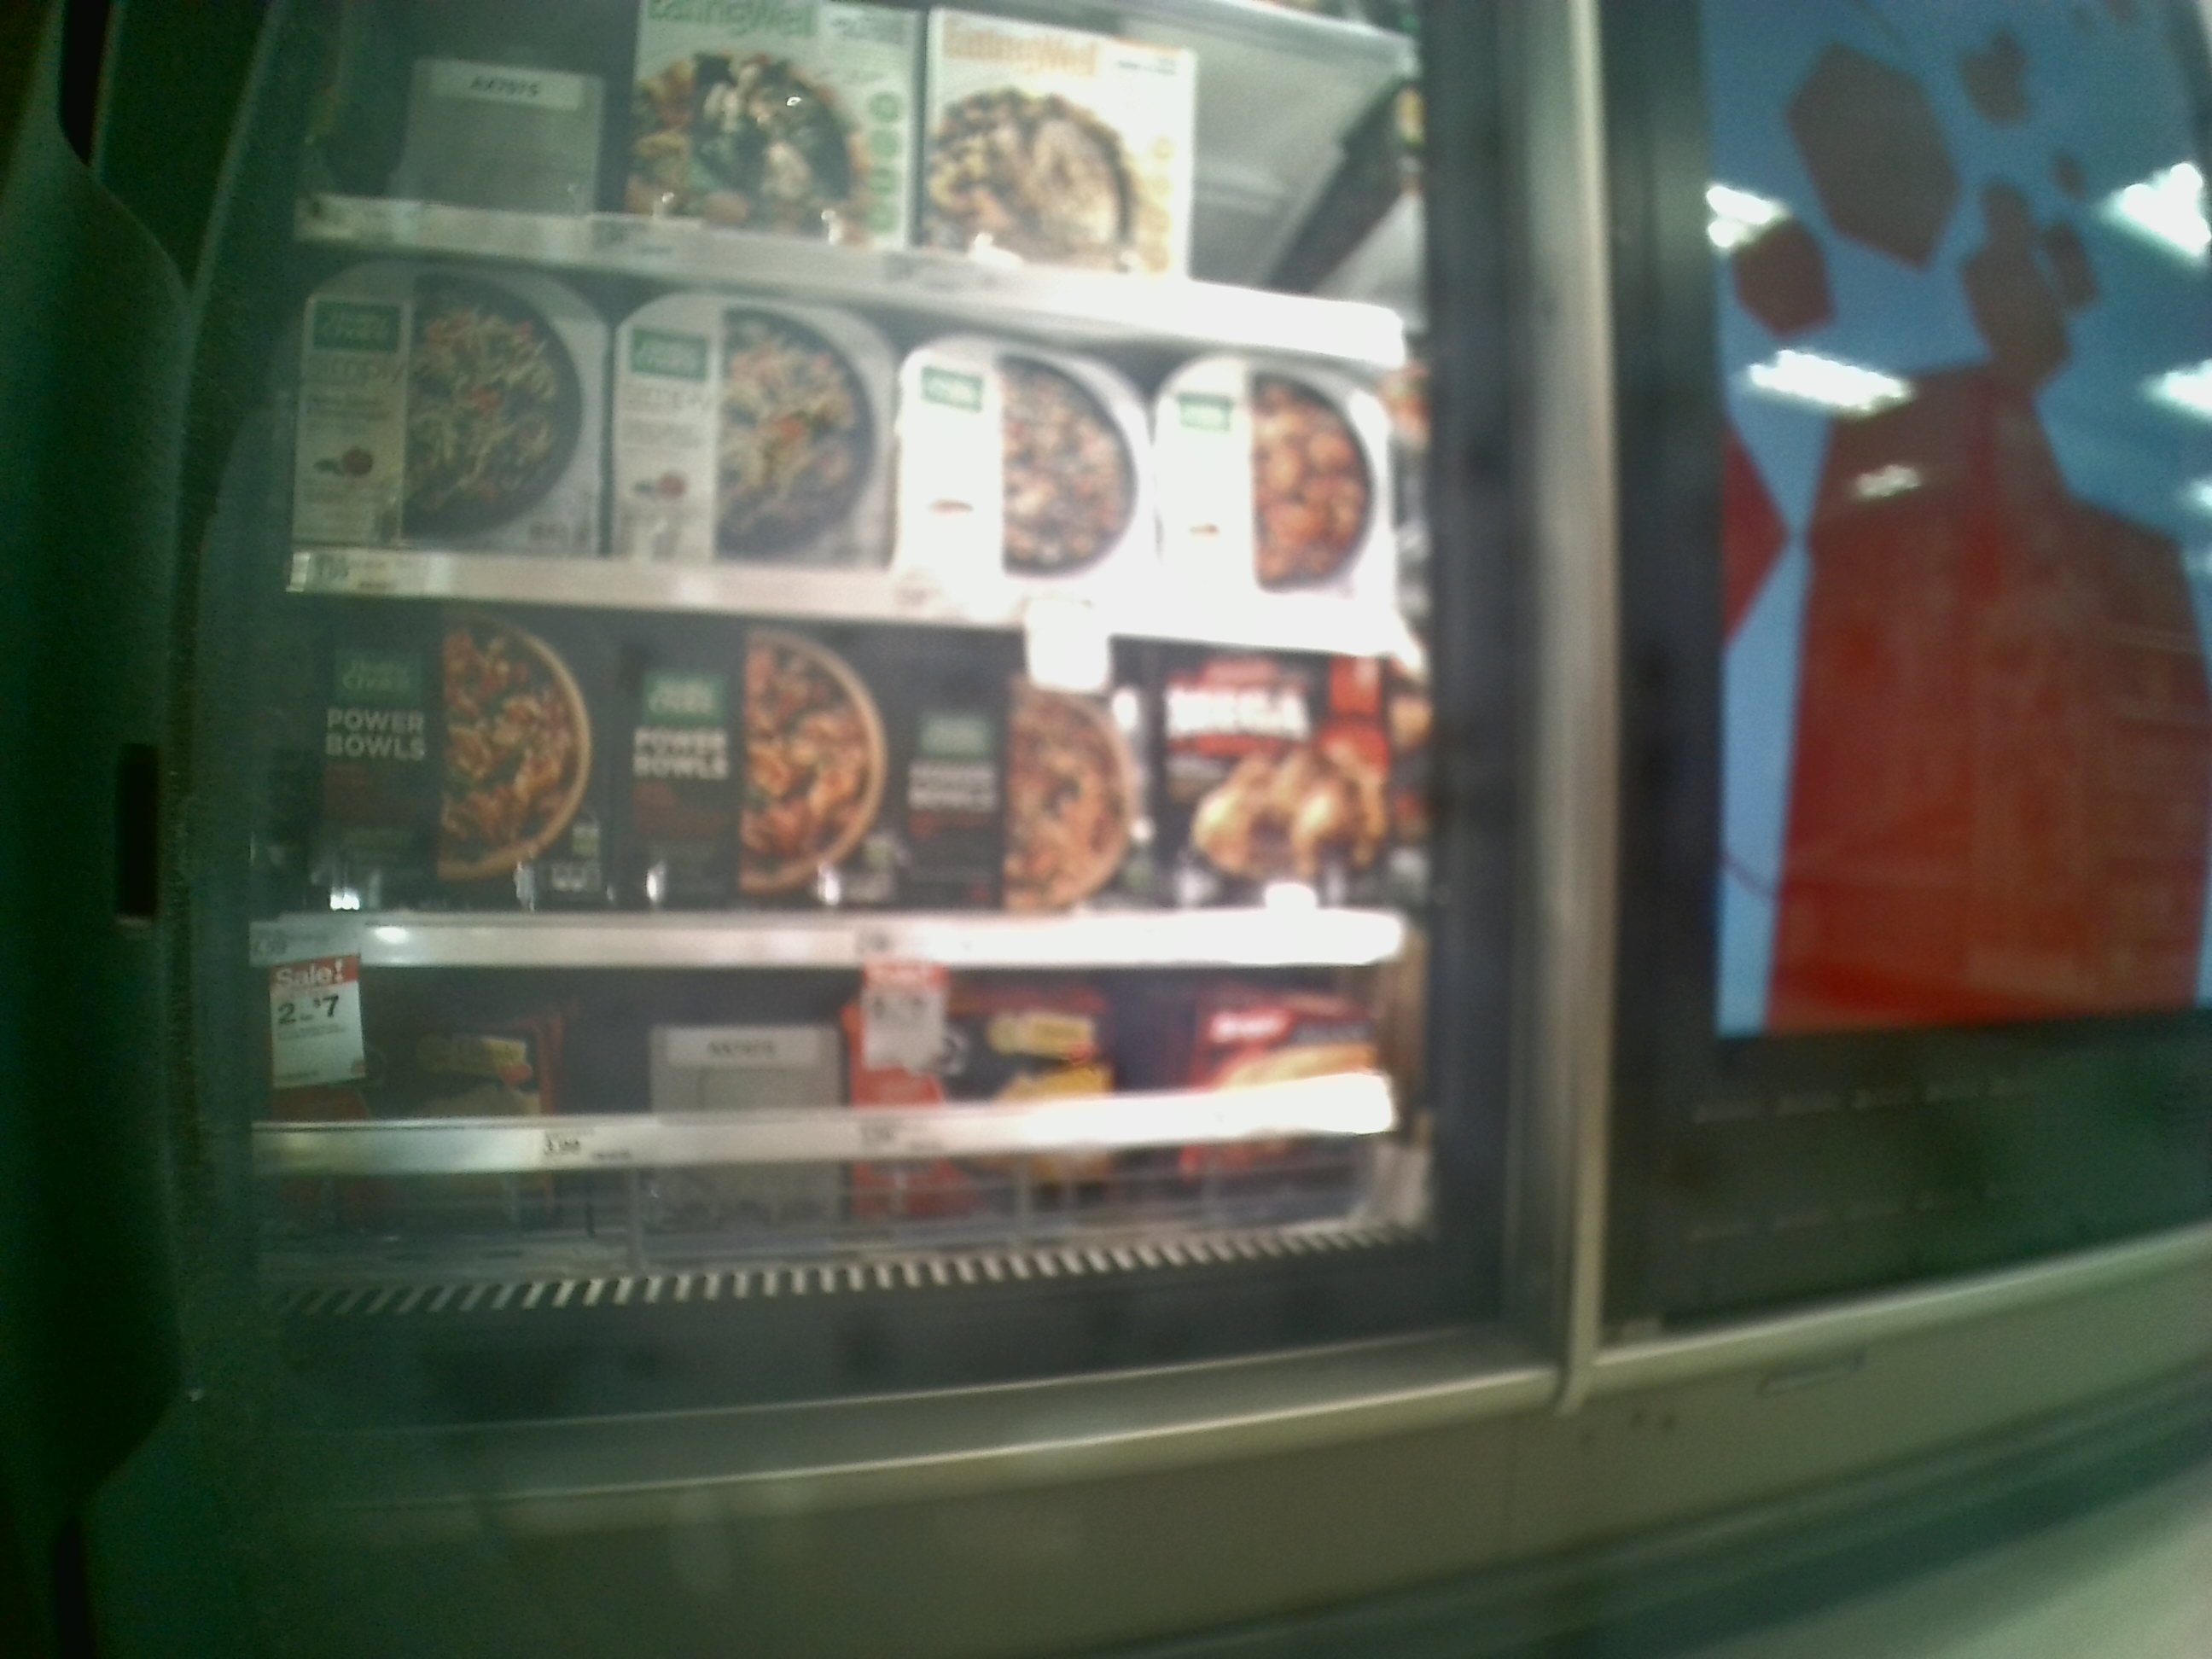shelf: (286, 234, 1430, 657), (275, 598, 1423, 969), (263, 976, 1435, 1295)
